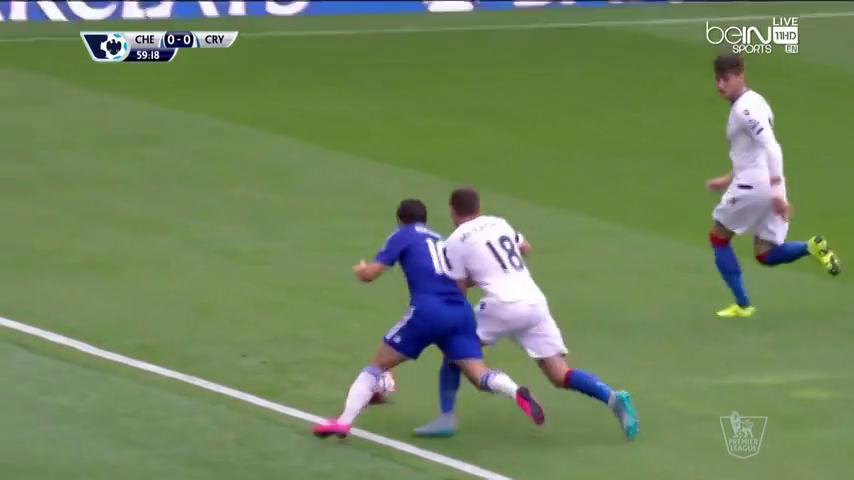football: (372, 372, 395, 402)
